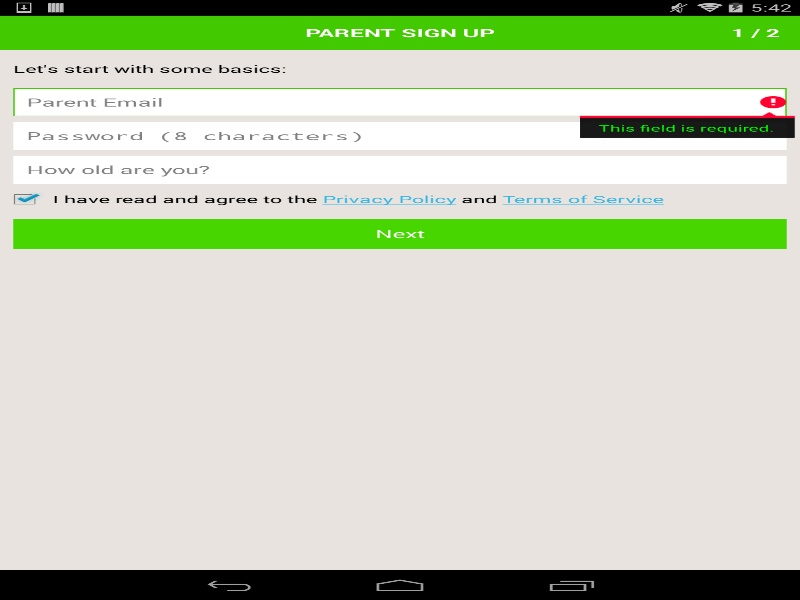Button: (13, 218, 786, 248)
Input: (13, 121, 786, 150), (13, 88, 786, 116), (13, 155, 786, 183)
